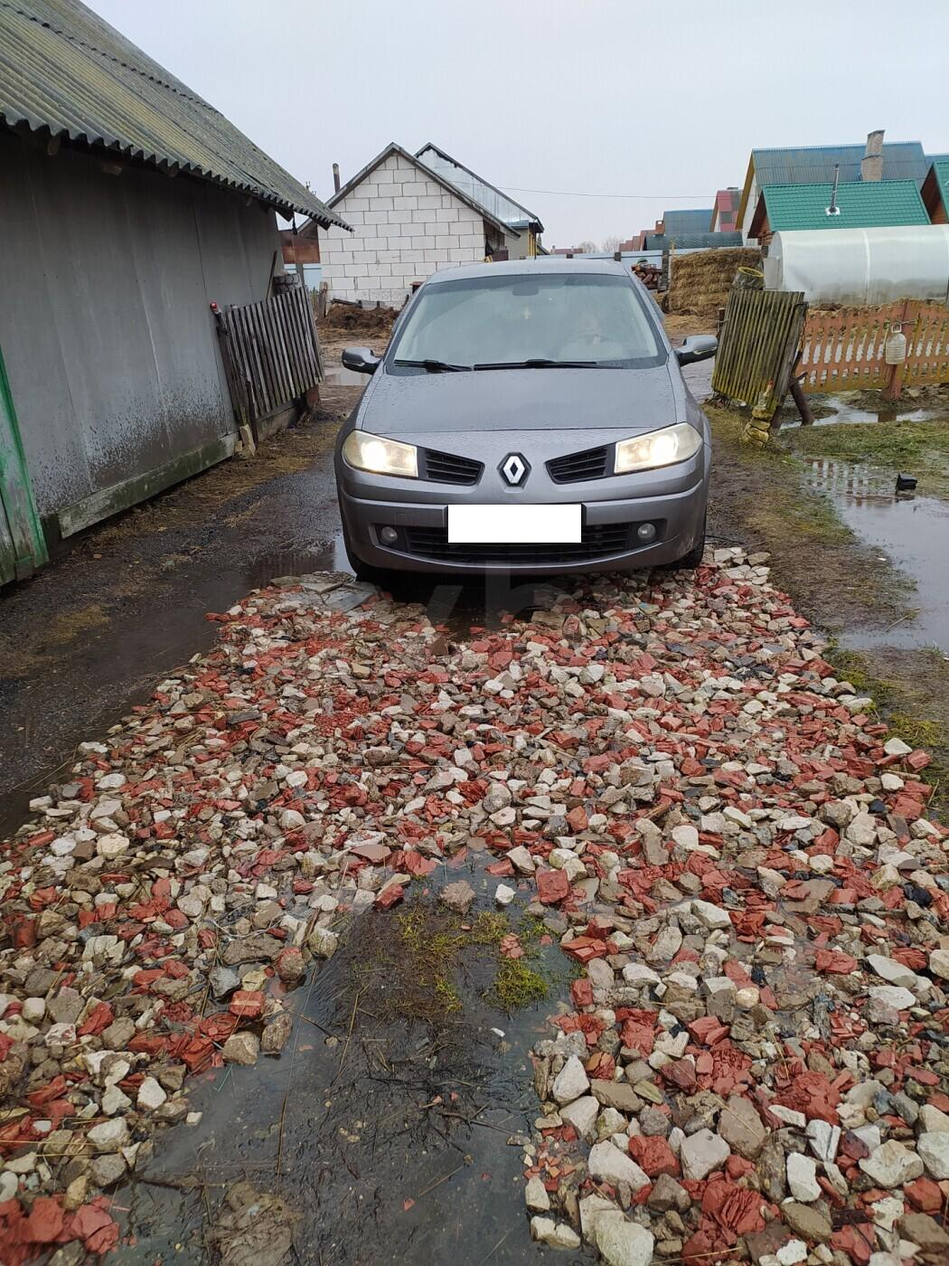Megane_2005-2009: (325, 264, 725, 613)
